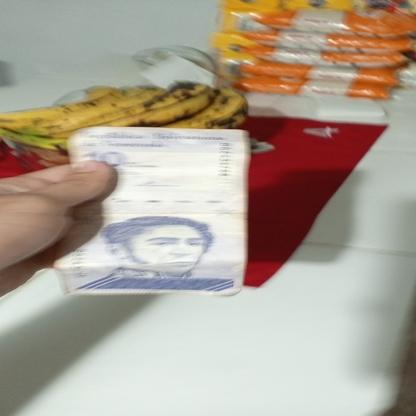ten-front-vef: (56, 129, 252, 294)
